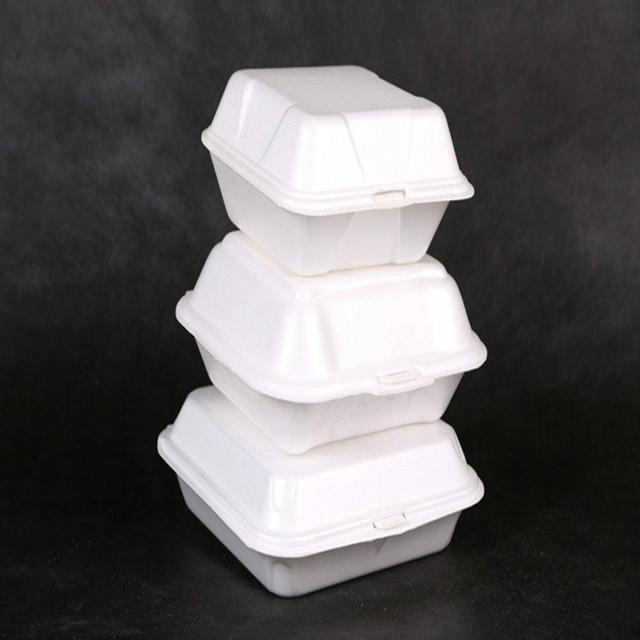styrofoam: (156, 62, 488, 598), (174, 228, 488, 454), (156, 383, 485, 598), (200, 61, 475, 276)
